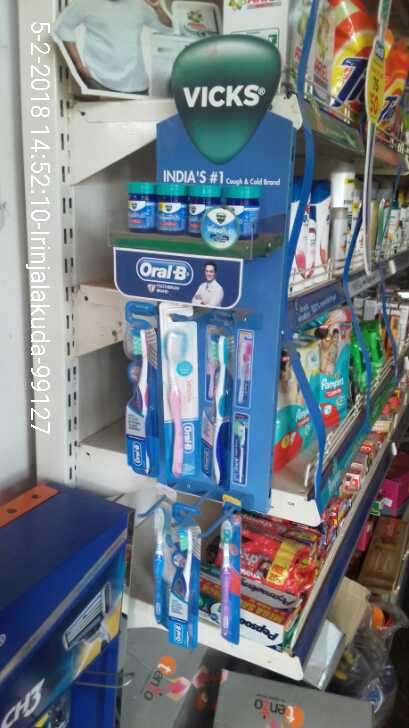pharmacy: (158, 301, 201, 476), (120, 299, 159, 477), (166, 500, 199, 646), (203, 323, 232, 486), (219, 491, 242, 642), (186, 181, 224, 238), (225, 184, 263, 240), (156, 180, 188, 236), (126, 179, 156, 231)
